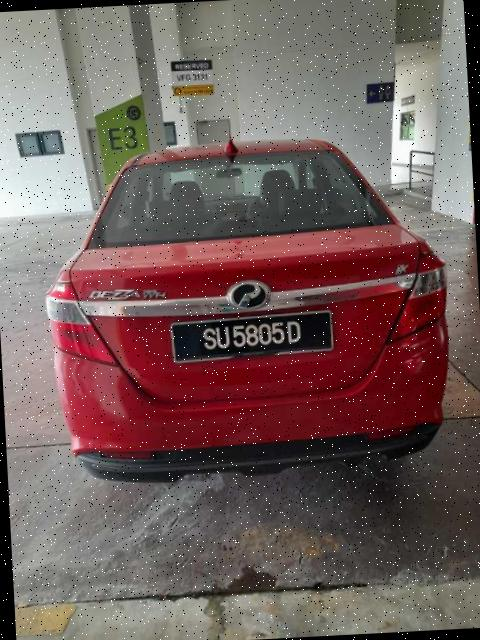License_Plate: (170, 309, 336, 365)
car: (38, 129, 459, 489)
